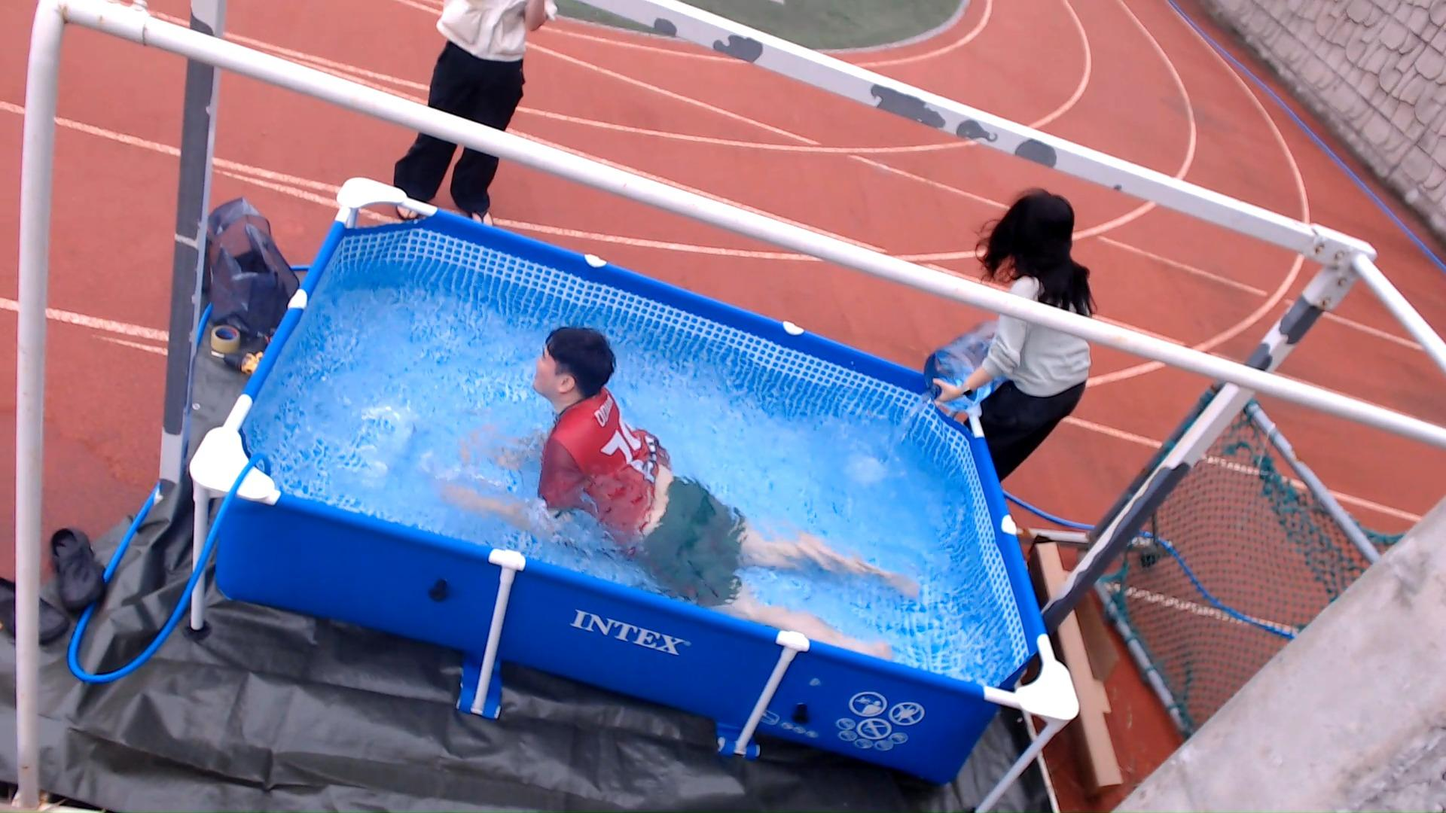Swimming: (399, 316, 939, 637)
